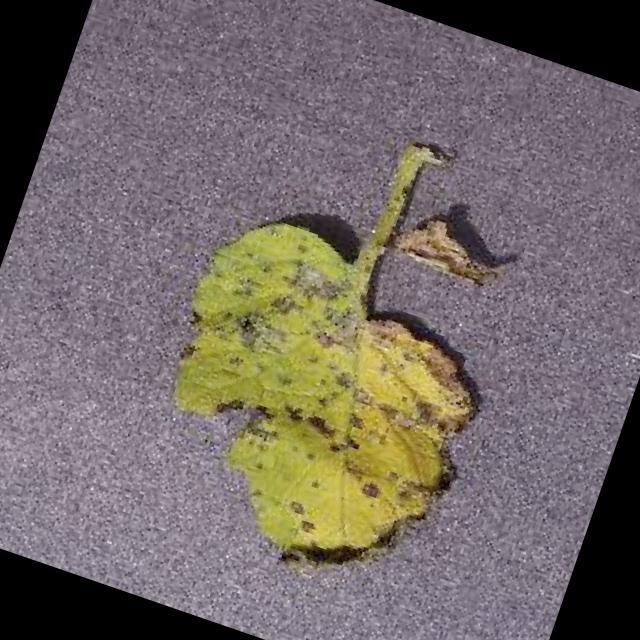Tomato Septoria spot leaf: (118, 199, 516, 616)
